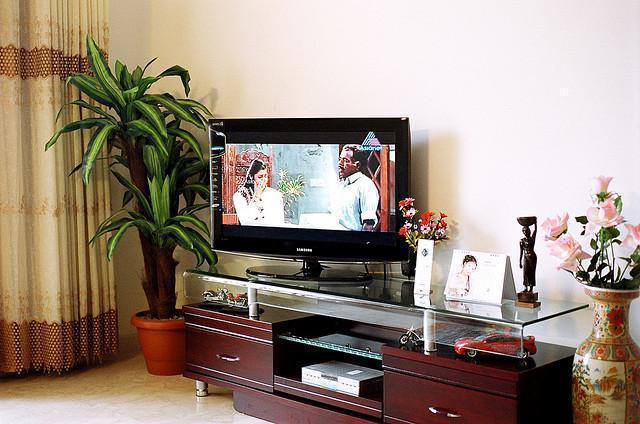Matera: (69, 44, 213, 379), (553, 188, 638, 422)
